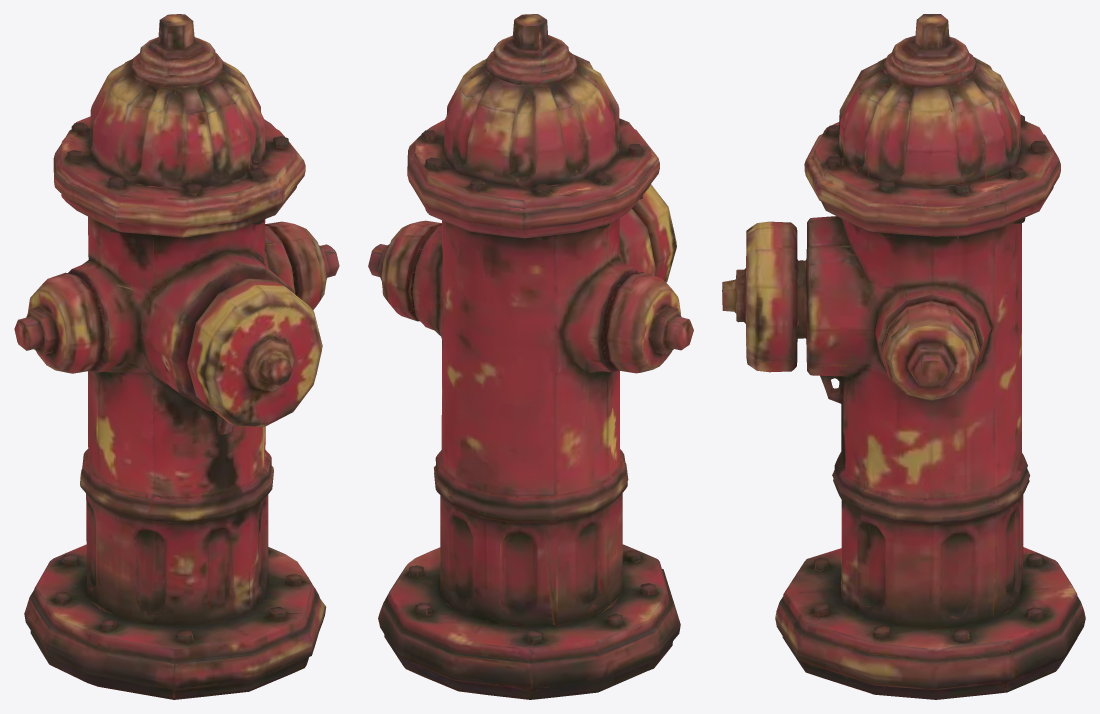
The model's file is prop-hydrant.glb.
3 renders of one model, left to right at view 1: azimuth 30°, elevation 25°; view 2: azimuth 150°, elevation 25°; view 3: azimuth 270°, elevation 25°, orthographic.
Visible parts, largest first — view 1: Mesh_0; view 2: Mesh_0; view 3: Mesh_0.
Boxes of the visible parts, x1,y1,x2,y2 form: Mesh_0: [14, 14, 339, 699]; Mesh_0: [368, 14, 693, 699]; Mesh_0: [722, 14, 1085, 699].
Size of the model in its own units: 1 by 1.91 by 1.01.
1 material, 1 textured.
